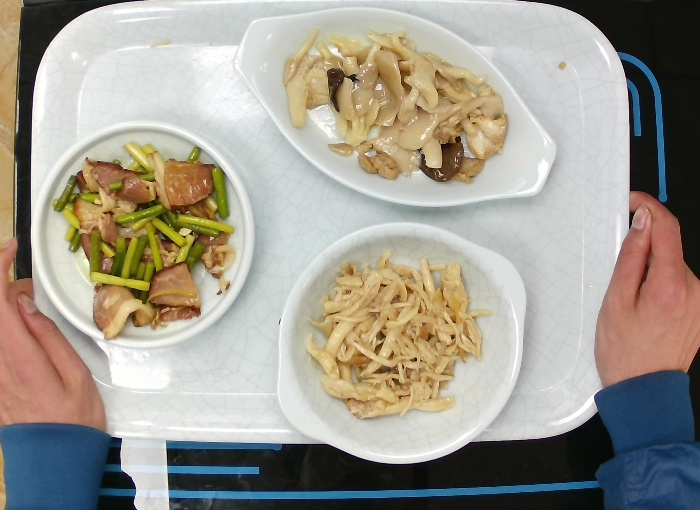JYsf-Shuang_Er_Wan: (261, 214, 535, 472)
JYsf-Xiao_Yuan_Pan: (34, 116, 261, 354)
JYsf-Yu_Pan: (230, 4, 562, 219)
